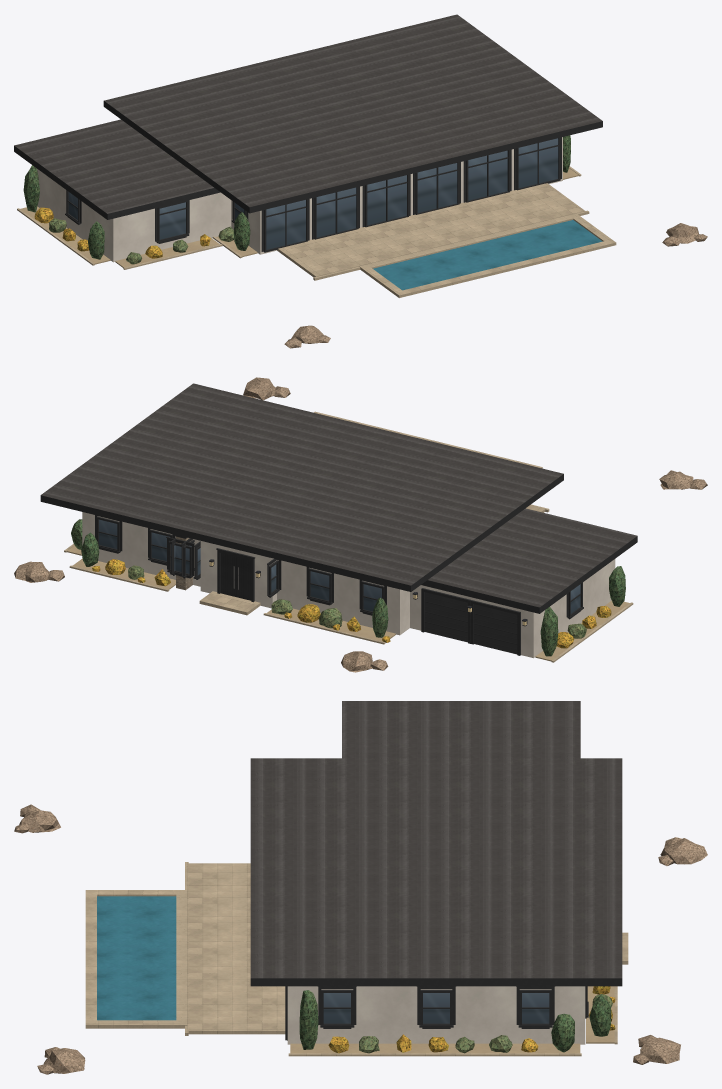
File: desert_modern_1s.fbx
3 views of the same model, one above another, from view 1: azimuth 30°, elevation 25°; view 2: azimuth 150°, elevation 25°; view 3: azimuth 270°, elevation 25° (orthographic). The views are drawn at different scales.
Visible parts, largest first — view 1: desert_modern_1s_LOD0; view 2: desert_modern_1s_LOD0; view 3: desert_modern_1s_LOD0.
Boxes of the visible parts, x1,y1,x2,y2 form: desert_modern_1s_LOD0: (14,14,707,348); desert_modern_1s_LOD0: (14,377,707,672); desert_modern_1s_LOD0: (14,701,707,1074).
Size of what is drawn, in the model's own units: 29 by 3.67 by 27.99.
Materials: 2 (2 with a texture image).
